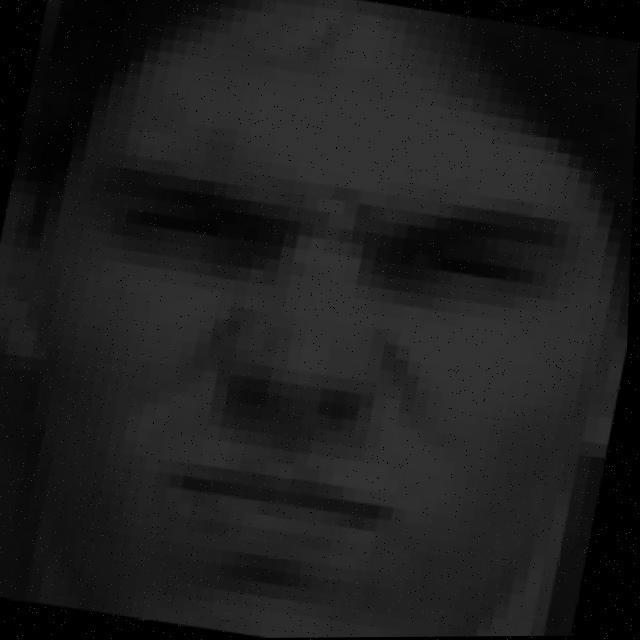Disgust: (60, 100, 604, 640)
